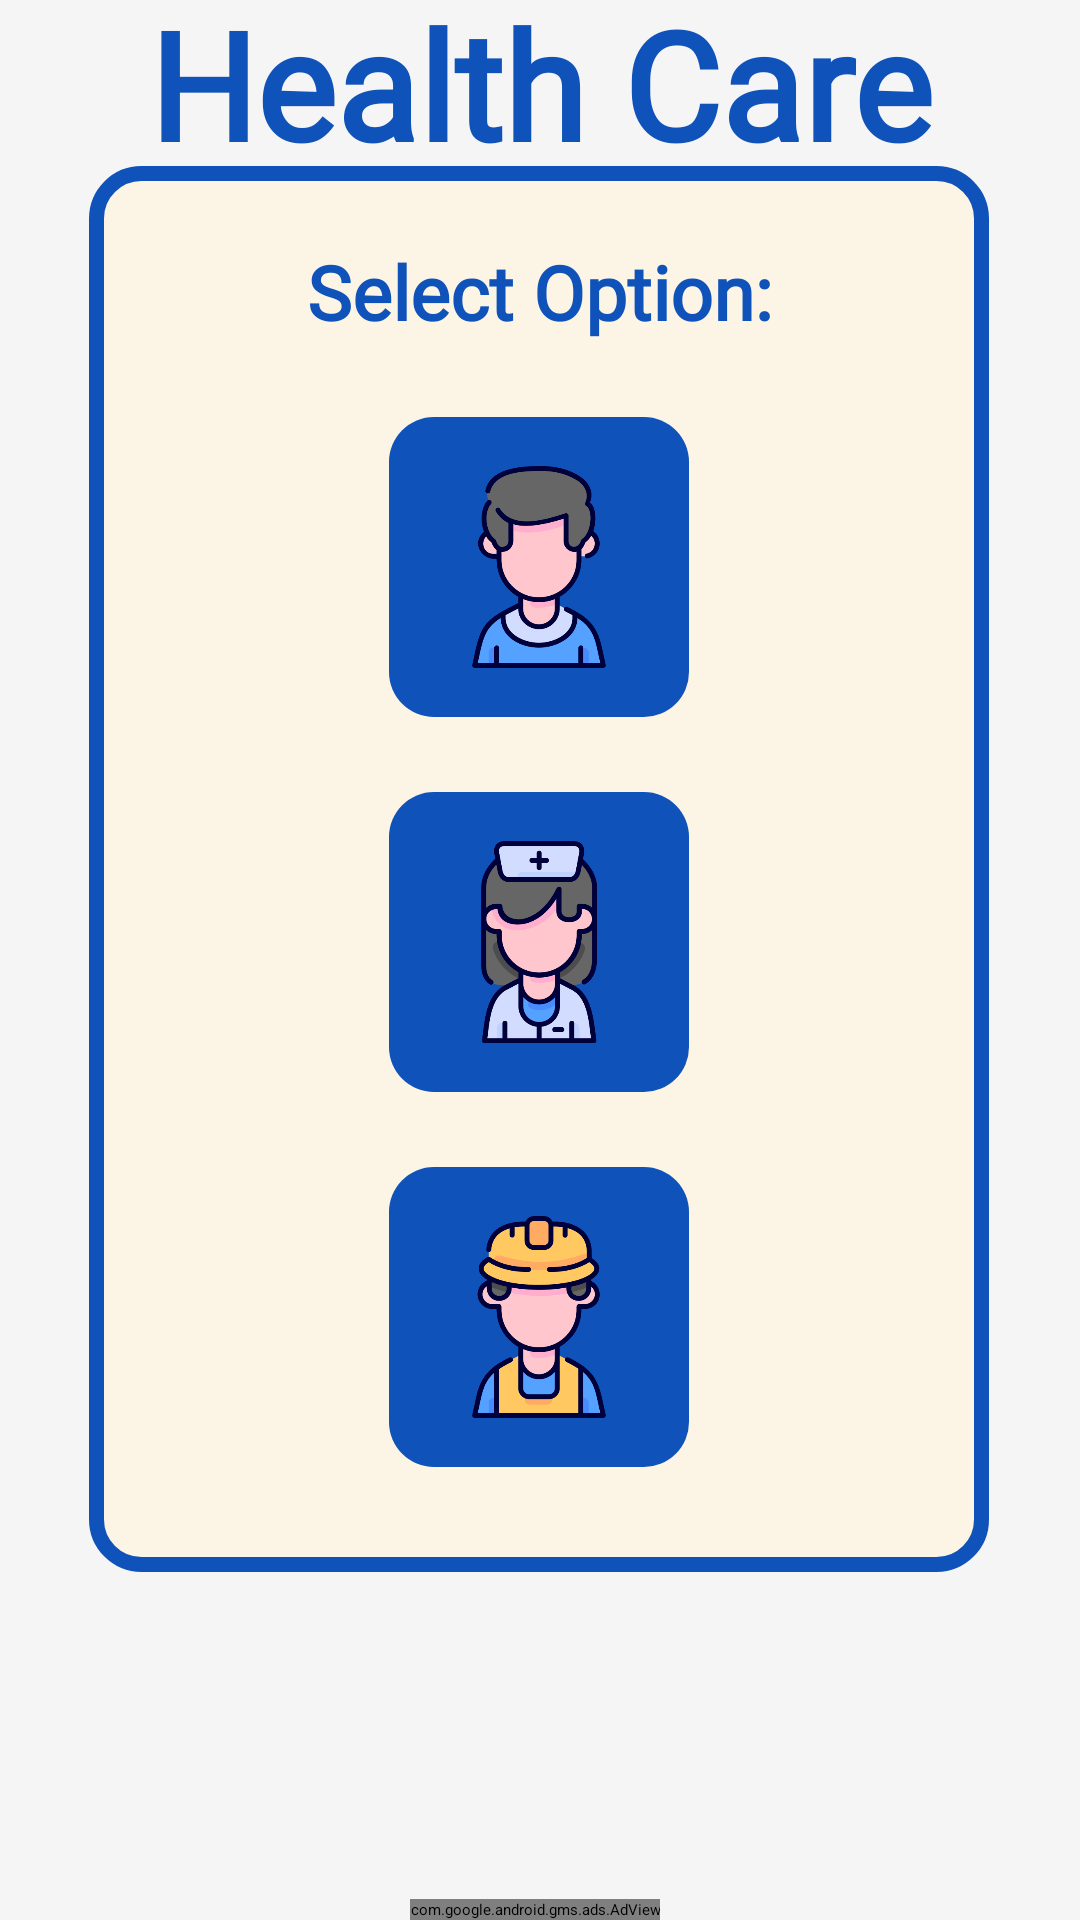

Point at icon controls on the screen. Image size 1080 × 1920, points as [x,y].
builder: [539,1317]
male: [539,567]
nurse: [539,942]
